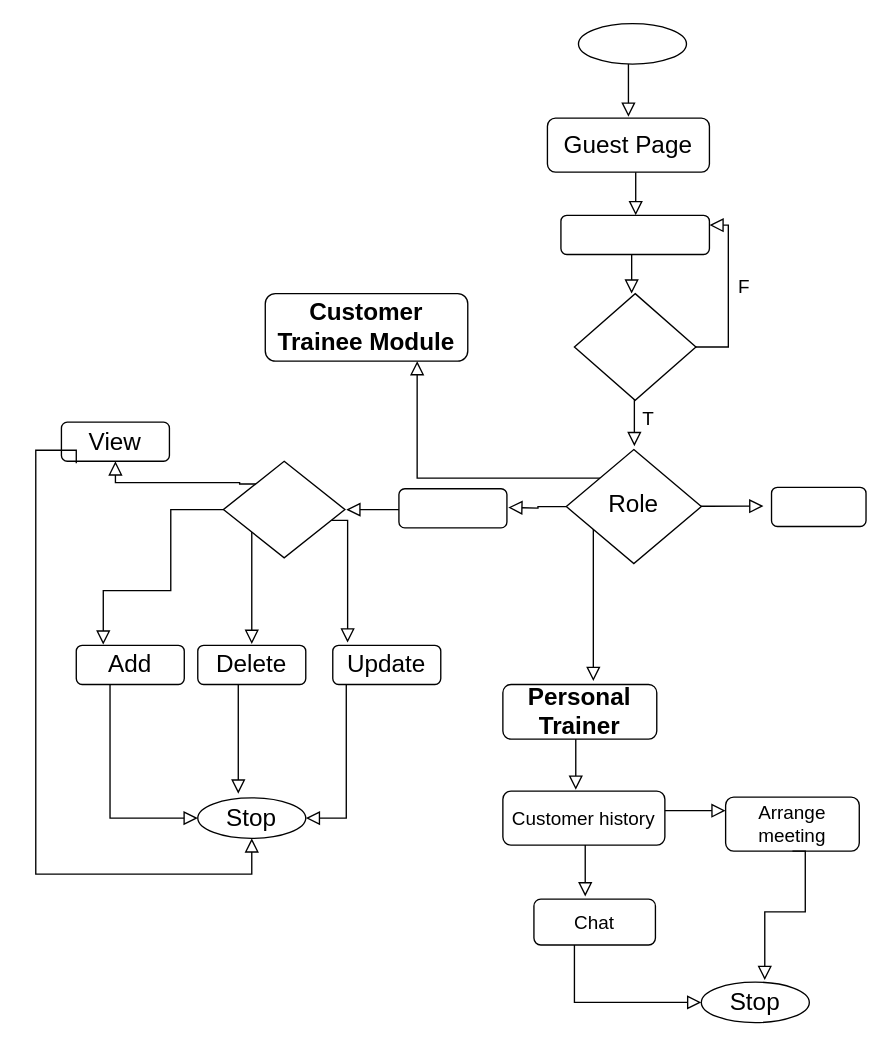
Some shapes in this 890 by 1046 pixel diagram are drawn without their labels. Each missing label, with the centre of its shape:
"Admin" goes at pixel 818 506.
"Login" goes at pixel 634 234.
"Option" goes at pixel 283 509.
"Start" goes at pixel 631 43.
"Supplier" goes at pixel 452 507.
"Validation" goes at pixel 634 346.
